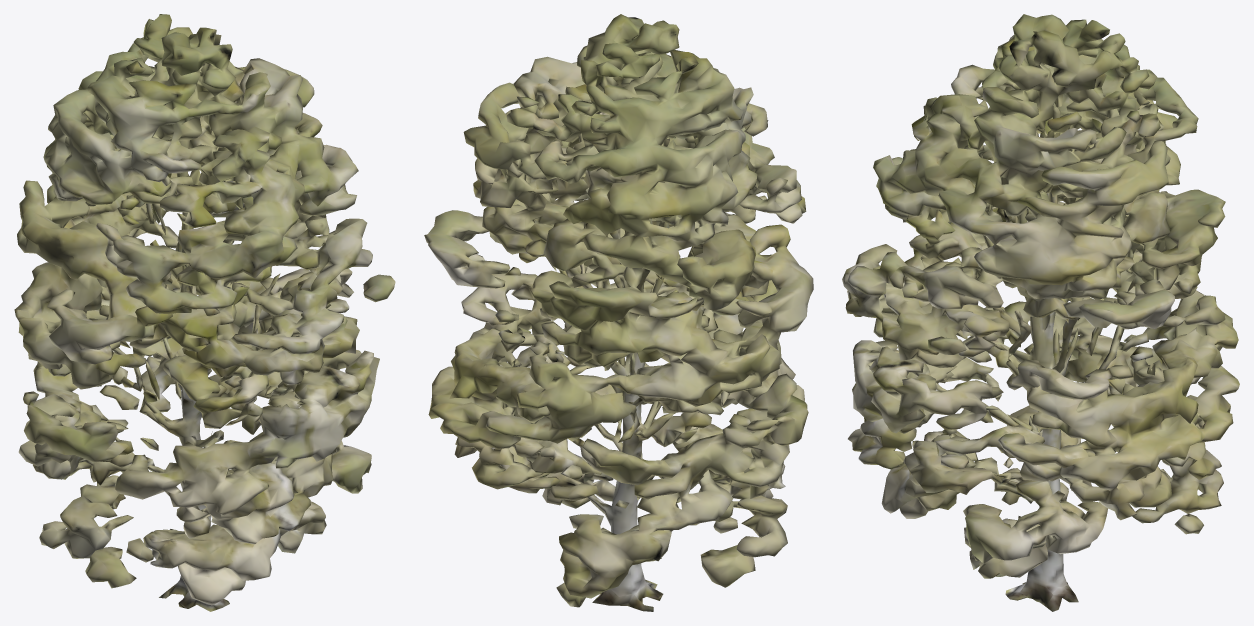
The model's file is AI_QuakingAspen01.fbx.
3 views of the same model, side by side, from view 1: azimuth 30°, elevation 25°; view 2: azimuth 150°, elevation 25°; view 3: azimuth 270°, elevation 25° (orthographic). The views are drawn at different scales.
Parts seen in each view (by area): view 1: Mesh1.0; view 2: Mesh1.0; view 3: Mesh1.0.
Boxes of the visible parts, x1,y1,x2,y2 form: Mesh1.0: (14, 14, 395, 611); Mesh1.0: (424, 14, 813, 611); Mesh1.0: (842, 14, 1239, 611).
Size of the model in its own units: 121 by 199 by 126.
1 material, 1 textured.
